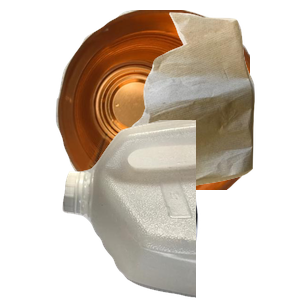glass: (95, 164, 286, 300)
metal: (53, 10, 293, 190)
plastic: (60, 120, 300, 300)
trash: (114, 10, 300, 189)
